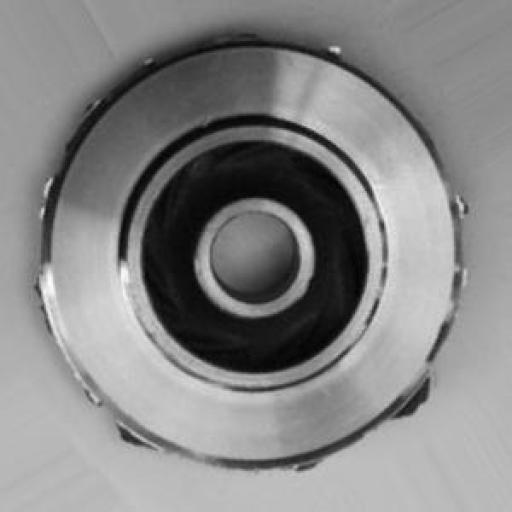defect: (29, 27, 485, 484)
